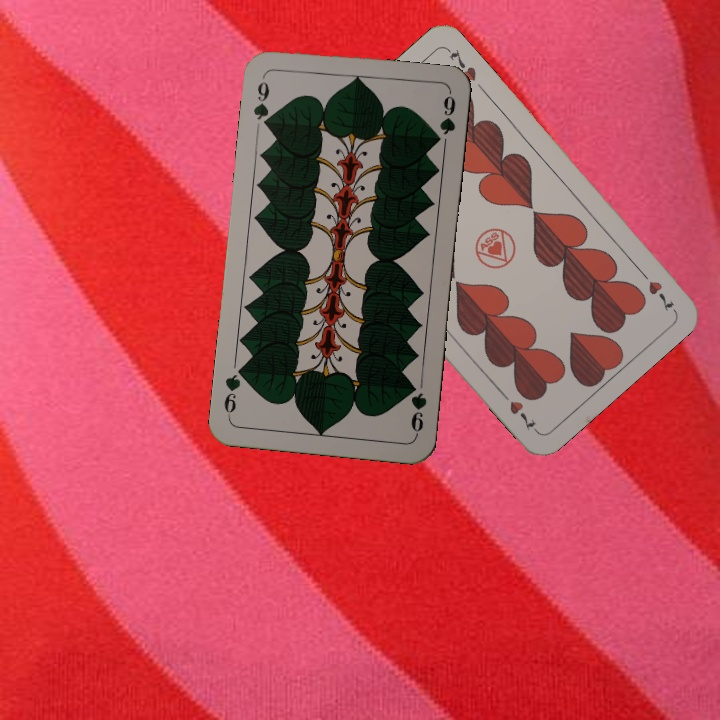G9: (405, 378, 430, 438), (249, 72, 273, 132)
H7: (634, 264, 677, 314)
